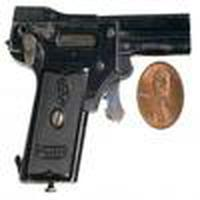gun: (3, 1, 194, 191)
